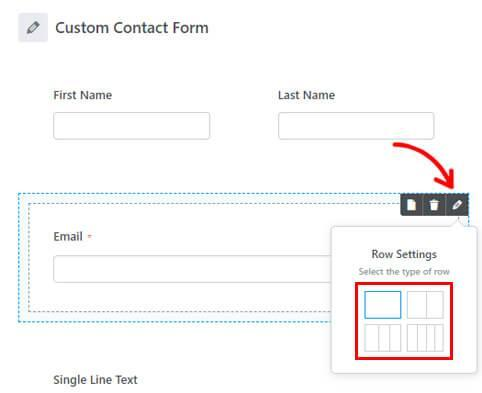icon: (26, 21, 43, 36), (405, 199, 419, 213), (451, 198, 465, 212), (430, 199, 441, 212)
input: (55, 256, 331, 283), (53, 111, 211, 139), (277, 112, 435, 139)
label: (56, 21, 210, 37), (53, 86, 116, 104), (276, 88, 339, 103), (51, 229, 95, 246)
